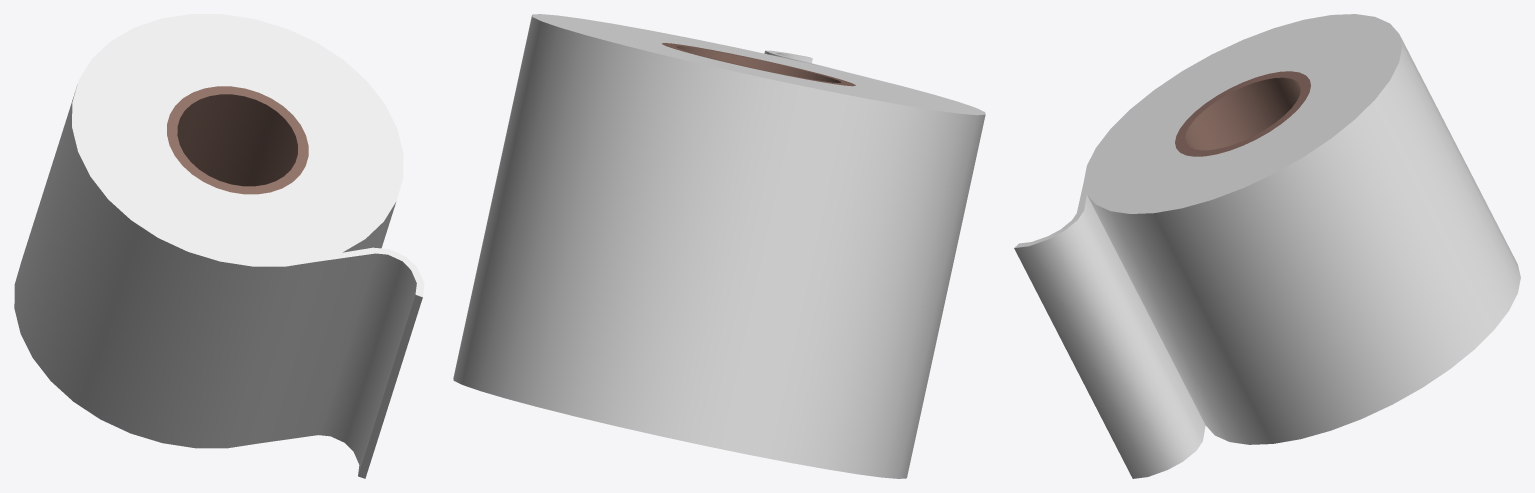
The model's file is roll_of_paper.glb.
The picture shows the model from 3 angles, left to right: view 1: azimuth 30°, elevation 25°; view 2: azimuth 150°, elevation 25°; view 3: azimuth 270°, elevation 25°; orthographic projection. The views are drawn at different scales.
Visible parts, largest first — view 1: Cylinder.514; view 2: Cylinder.514; view 3: Cylinder.514.
Part boxes in pixels (box(x1,y1,x2,y2)): Cylinder.514: box(14, 14, 424, 478); Cylinder.514: box(453, 14, 985, 478); Cylinder.514: box(1014, 14, 1520, 478).
Size of the model in its own units: 1.69 by 2.1 by 2.44.
1 material, 1 textured.
